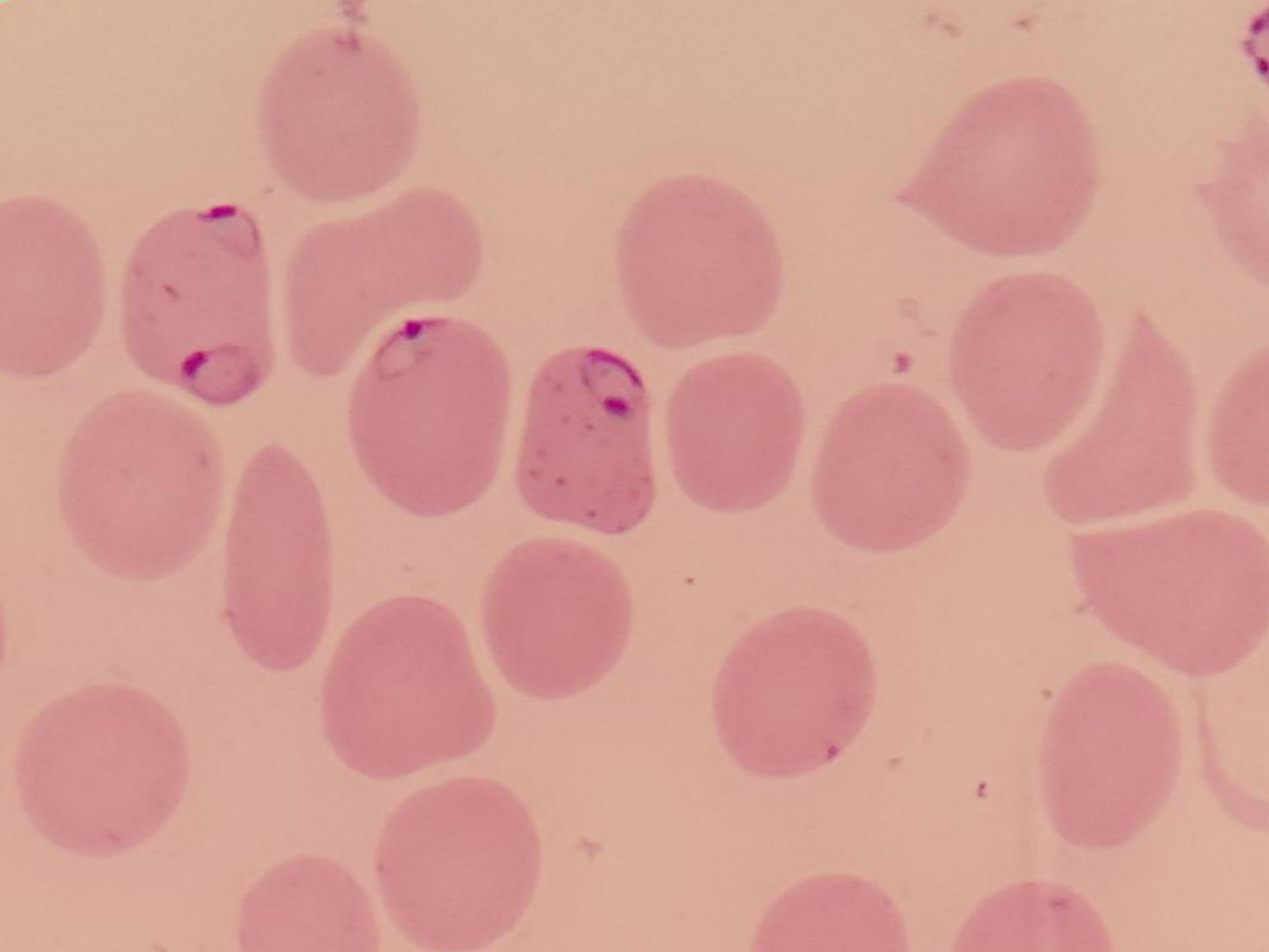Infected: (119, 192, 279, 411), (348, 316, 513, 514), (520, 346, 658, 538)
Uninfected: (275, 188, 480, 382), (901, 78, 1097, 262), (1053, 516, 1269, 679), (317, 593, 495, 780), (366, 767, 538, 952), (1053, 318, 1201, 530), (62, 391, 223, 580), (712, 604, 878, 787), (256, 25, 420, 203), (218, 441, 341, 677), (22, 690, 189, 859), (619, 170, 777, 348), (811, 382, 966, 561), (1040, 659, 1179, 851), (947, 267, 1090, 447), (489, 536, 626, 698), (661, 357, 798, 514), (0, 192, 103, 382), (236, 857, 377, 952), (740, 868, 896, 952), (950, 875, 1116, 952)
